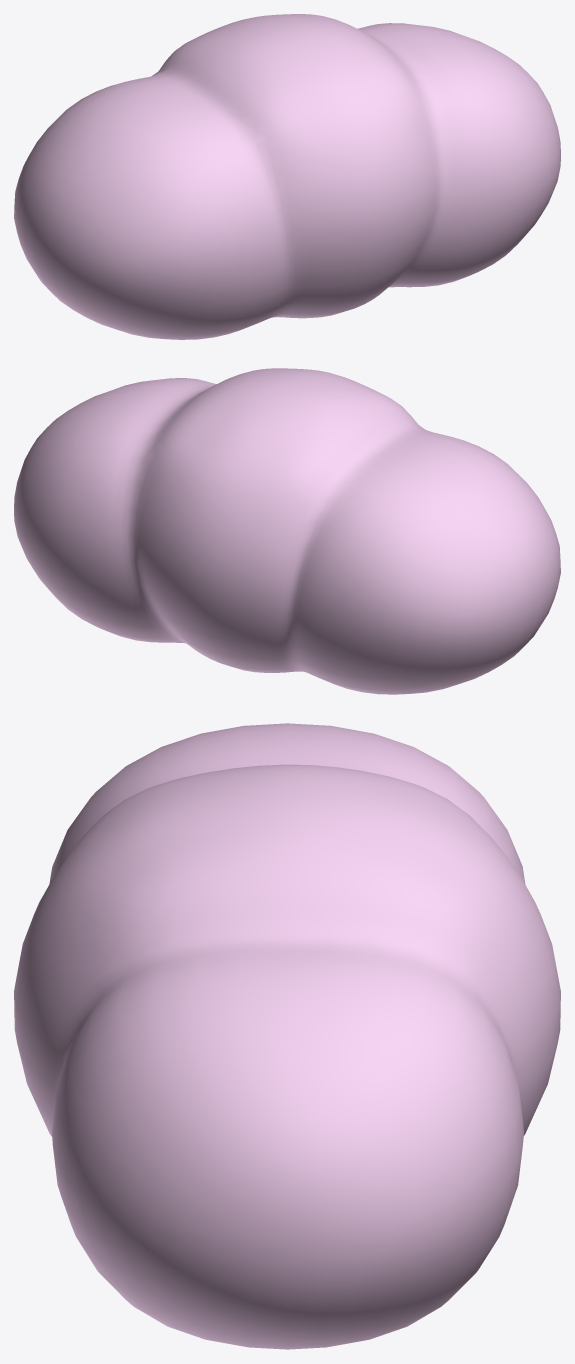
File: pinkcloud.gltf
The picture shows the model from 3 angles, top to bottom: view 1: azimuth 30°, elevation 25°; view 2: azimuth 150°, elevation 25°; view 3: azimuth 270°, elevation 25°; orthographic projection. The views are drawn at different scales.
Parts seen in each view (by area): view 1: Cloud; view 2: Cloud; view 3: Cloud.
Boxes of the visible parts, x1,y1,x2,y2 form: Cloud: [14, 14, 560, 339]; Cloud: [14, 368, 560, 694]; Cloud: [14, 723, 560, 1349].
Size of the model in its own units: 3.36 by 1.65 by 1.9.
